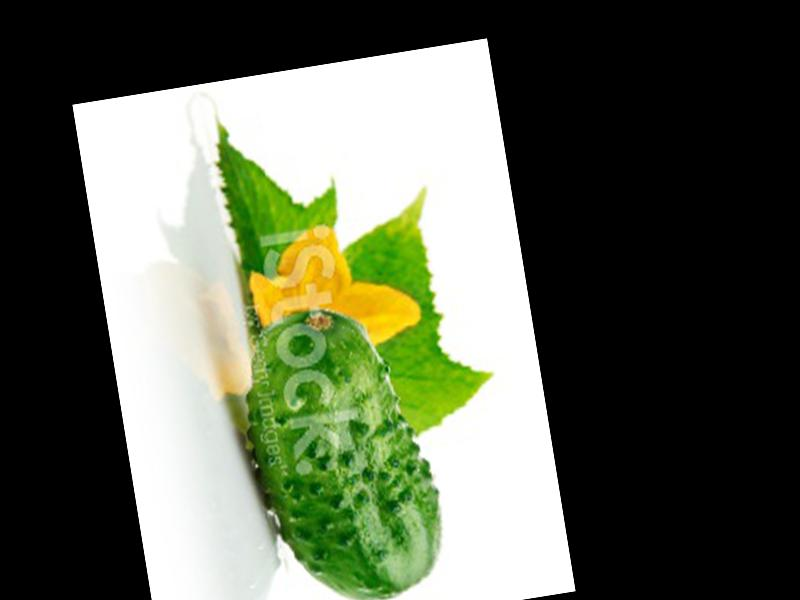Cucumber: (233, 298, 453, 600)
